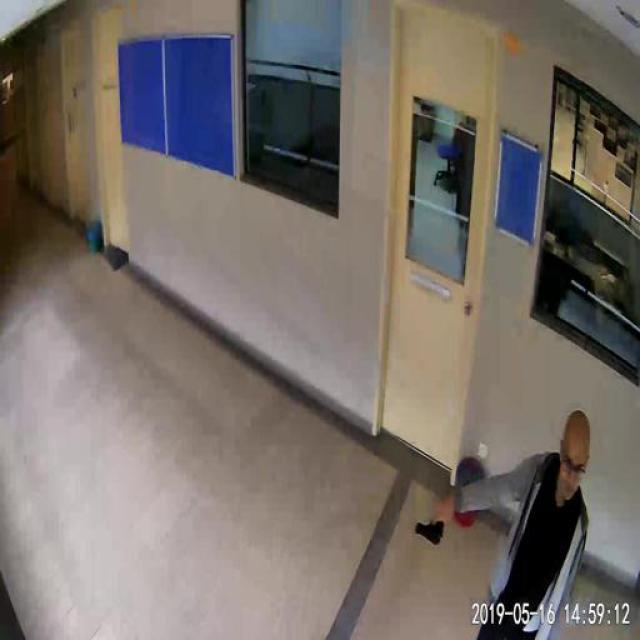Gun: (414, 510, 446, 545)
